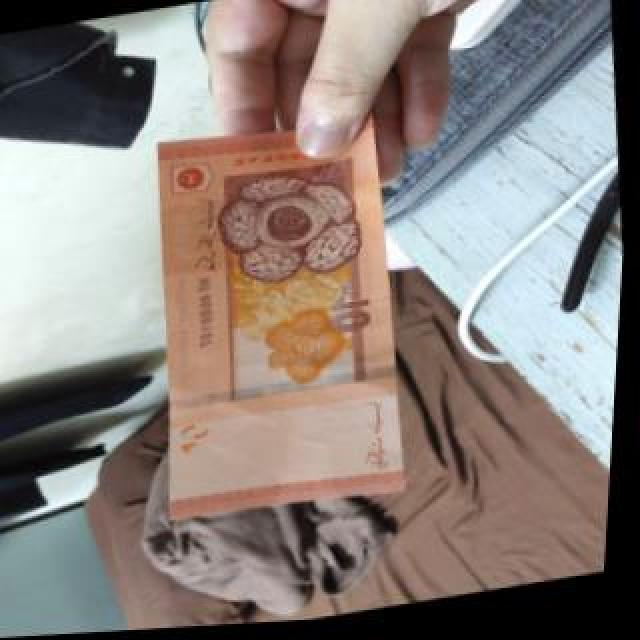10 Ringgit: (132, 94, 438, 539)
